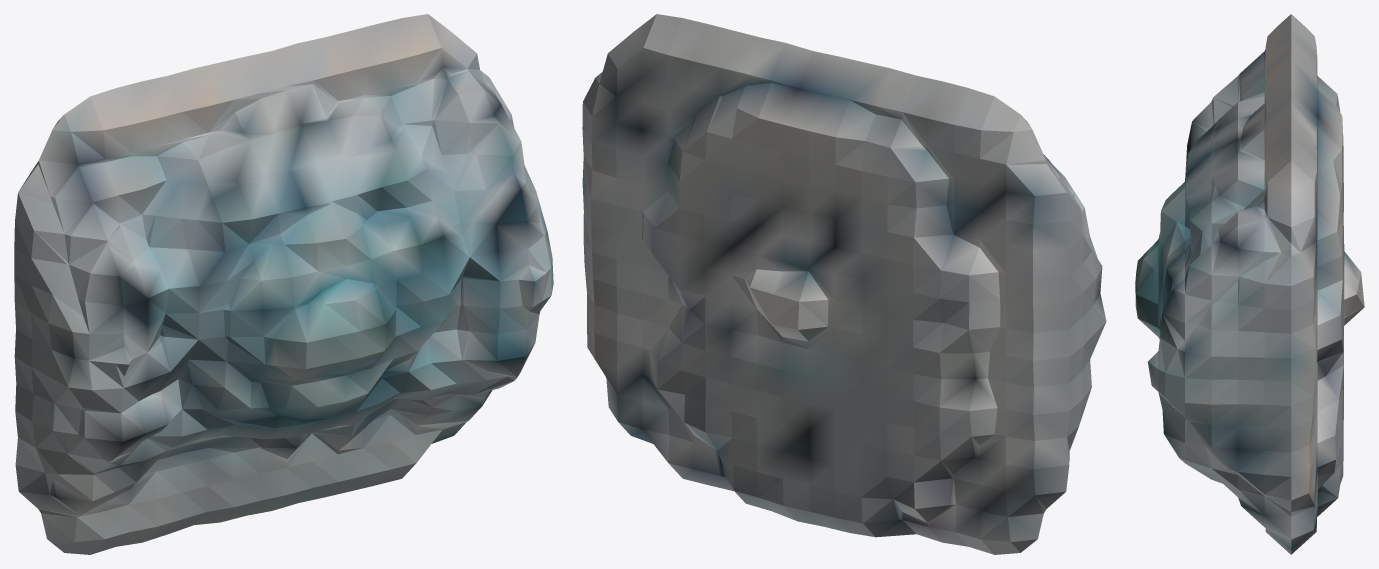
3 views of the same model, side by side, from view 1: azimuth 30°, elevation 25°; view 2: azimuth 150°, elevation 25°; view 3: azimuth 270°, elevation 25° (orthographic). The views are drawn at different scales.
Parts seen in each view (by area): view 1: world; view 2: world; view 3: world.
Boxes of the visible parts, box(x1,y1,x2,y2) form: world: box(14, 14, 553, 554); world: box(582, 14, 1106, 554); world: box(1135, 14, 1364, 554).
Bounding box in the file's own units: 1.05 × 0.9526 × 0.485.
